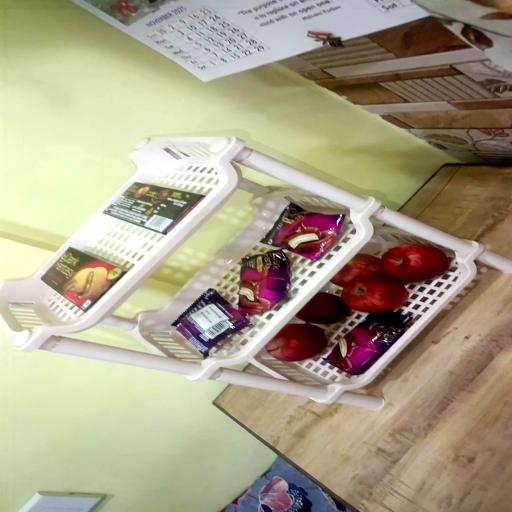Apple: (381, 245, 450, 285), (342, 275, 408, 315), (266, 324, 328, 362), (297, 292, 349, 324), (332, 255, 383, 285)
Choco Fills: (41, 248, 126, 312), (100, 185, 204, 237)
Choco Pie: (174, 289, 252, 358), (326, 313, 409, 377), (264, 204, 348, 262), (239, 251, 292, 317)
